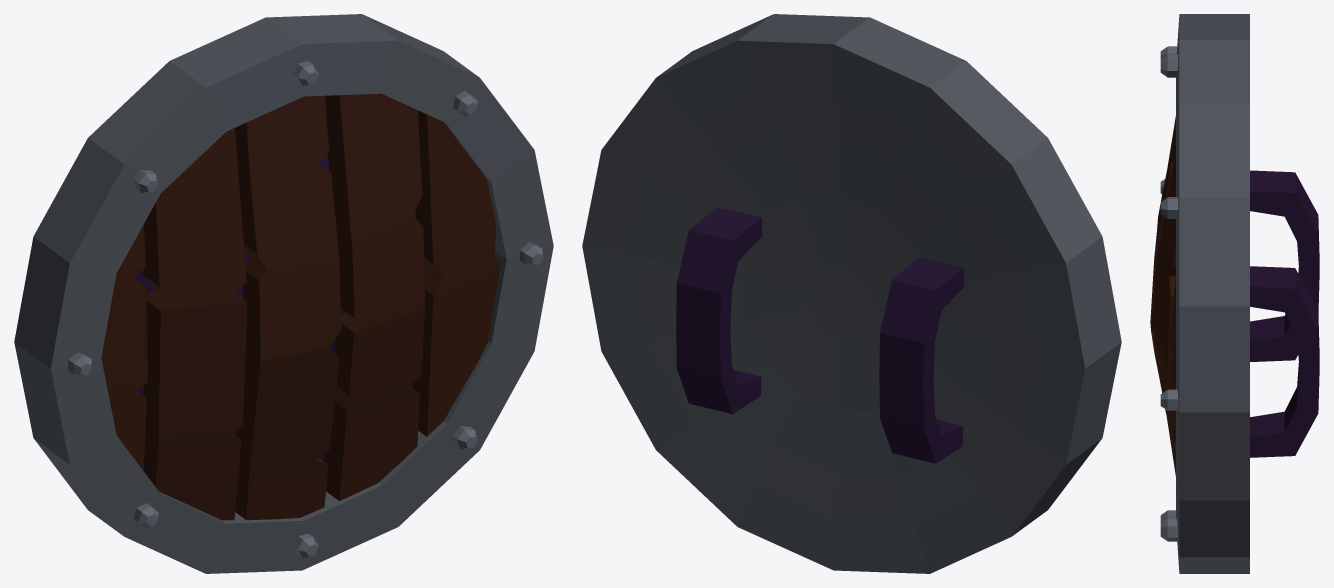
Rendered from Shield_Round.glb.
3 views of the same model, side by side, from view 1: azimuth 30°, elevation 25°; view 2: azimuth 150°, elevation 25°; view 3: azimuth 270°, elevation 25° (orthographic). The views are drawn at different scales.
Parts seen in each view (by area): view 1: Shield_Round; view 2: Shield_Round; view 3: Shield_Round.
Part boxes in pixels (bbox=[...]): Shield_Round: bbox=[14, 14, 553, 573]; Shield_Round: bbox=[582, 14, 1121, 573]; Shield_Round: bbox=[1150, 14, 1319, 573].
Size of the model in its own units: 0.48 by 0.48 by 0.1449.
